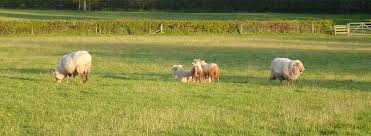sheep: (53, 51, 96, 85), (268, 57, 306, 87), (190, 56, 222, 89), (170, 64, 198, 85)
